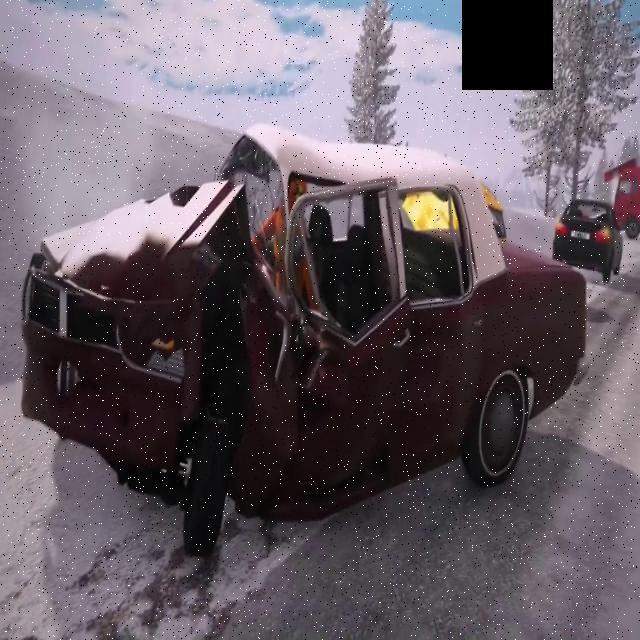vehicle: (4, 101, 585, 528)
